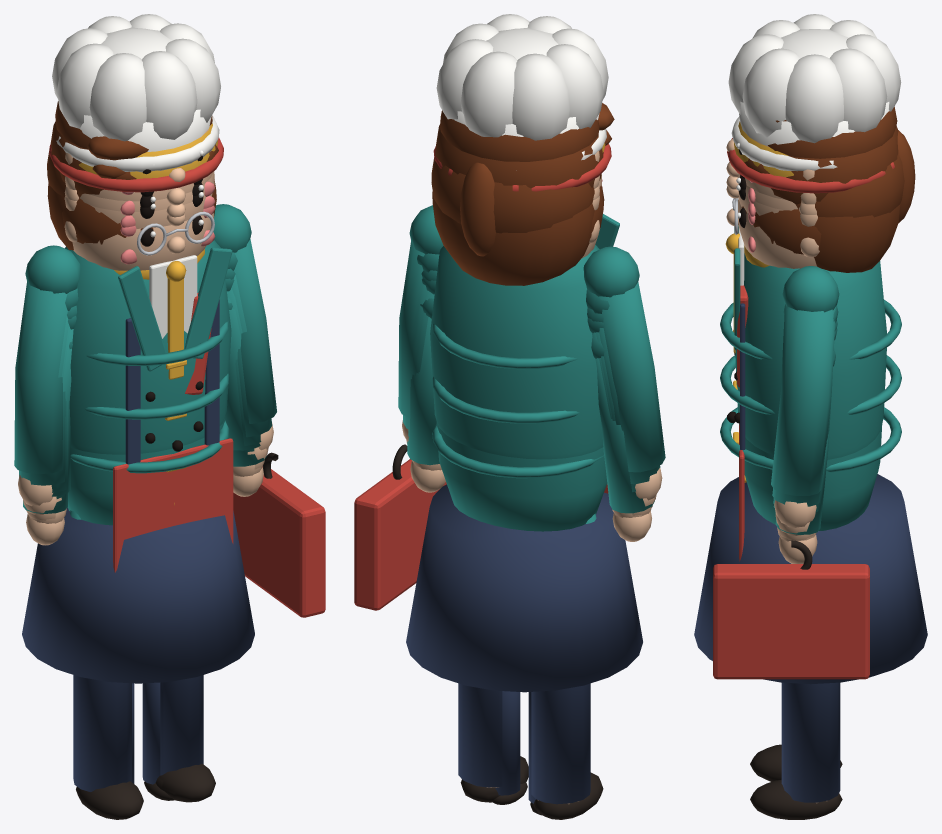
The model's file is roast-guests.glb.
3 renders of one model, left to right at view 1: azimuth 30°, elevation 25°; view 2: azimuth 150°, elevation 25°; view 3: azimuth 270°, elevation 25°, orthographic.
Visible parts, largest first — view 1: GuestBusiness_Body, GuestGrandma_Body, GuestChef_Head, GuestBusiness_ArmR, GuestStudent_Body, GuestChef_Body, GuestGrandma_Head, GuestBusiness_ArmL, GuestStudent_Head, GuestFamily_Head, GuestKid_Body, GuestStudent_ArmL (+9 smaller); view 2: GuestBusiness_Body, GuestGrandma_Body, GuestChef_Head, GuestBusiness_ArmR, GuestStudent_Head, GuestFamily_Head, GuestStudent_Body, GuestGrandma_ArmR, GuestBusiness_ArmL, GuestBusiness_Head, GuestGrandma_ArmL, GuestKid_Body (+3 smaller); view 3: GuestBusiness_Body, GuestChef_Head, GuestGrandma_Body, GuestBusiness_ArmL, GuestStudent_Head, GuestStudent_Body, GuestFamily_Head, GuestGrandma_Head, GuestBusiness_Head, GuestGrandma_ArmL, GuestFamily_ArmL, GuestChef_Body.
Boxes of the visible parts, x1,y1,x2,y2 form: GuestBusiness_Body: (65,240,325,819); GuestGrandma_Body: (22,416,254,683); GuestChef_Head: (47,14,220,227); GuestBusiness_ArmR: (14,245,80,506); GuestStudent_Body: (70,292,229,801); GuestChef_Body: (113,381,233,801); GuestGrandma_Head: (62,179,216,270); GuestBusiness_ArmL: (213,204,276,450); GuestStudent_Head: (47,123,223,250); GuestFamily_Head: (50,121,215,215); GuestKid_Body: (132,682,174,800); GuestStudent_ArmL: (225,278,262,476); GuestBusiness_Body: (354,214,619,819); GuestGrandma_Body: (406,421,642,804); GuestChef_Head: (431,14,611,233); GuestBusiness_ArmR: (583,246,665,500); GuestStudent_Head: (432,143,611,285); GuestFamily_Head: (435,103,614,256); GuestStudent_Body: (432,323,604,816); GuestGrandma_ArmR: (591,337,654,541); GuestBusiness_ArmL: (398,205,443,441); GuestBusiness_Head: (440,110,599,161); GuestGrandma_ArmL: (407,298,445,492); GuestKid_Body: (492,691,541,815); GuestBusiness_Body: (713,225,886,819); GuestChef_Head: (726,14,904,217); GuestGrandma_Body: (694,426,927,803); GuestBusiness_ArmL: (771,266,839,527); GuestStudent_Head: (726,121,900,272); GuestStudent_Body: (720,285,901,781); GuestFamily_Head: (726,126,915,223); GuestGrandma_Head: (726,198,821,268); GuestBusiness_Head: (726,106,897,182); GuestGrandma_ArmL: (775,348,835,563); GuestFamily_ArmL: (772,305,838,535); GuestChef_Body: (734,353,781,780).
Bounding box in the file's own units: 0.6631 × 1.8 × 0.5.
